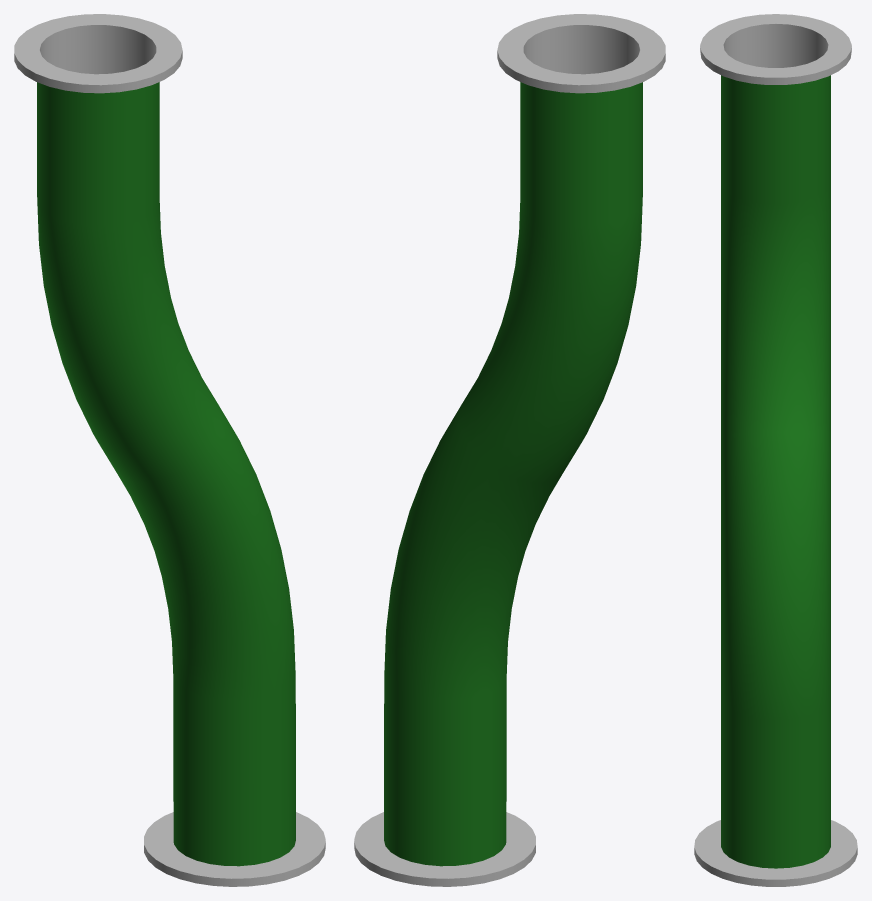
File: (SBS) to vacuum pipe bend.glb
The picture shows the model from 3 angles, left to right: view 1: azimuth 30°, elevation 25°; view 2: azimuth 150°, elevation 25°; view 3: azimuth 270°, elevation 25°; orthographic projection. The views are drawn at different scales.
Parts seen in each view (by area): view 1: Solid1; view 2: Solid1; view 3: Solid1.
Boxes of the visible parts, x1,y1,x2,y2 form: Solid1: (14,14,325,886); Solid1: (354,14,665,886); Solid1: (694,14,857,886).
Bounding box in the file's own units: 0.739 × 2.04 × 0.4045.
